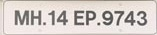character: (14, 9, 29, 25), (29, 9, 41, 25), (56, 10, 68, 26), (85, 9, 96, 26), (101, 10, 113, 25), (73, 9, 84, 25), (124, 10, 135, 26), (113, 10, 124, 25), (136, 10, 147, 25), (47, 9, 56, 25)
